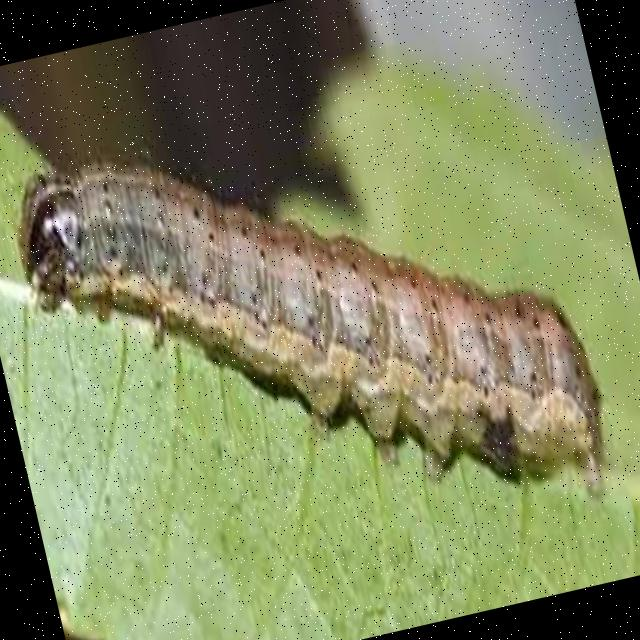worm: (1, 58, 626, 616)
